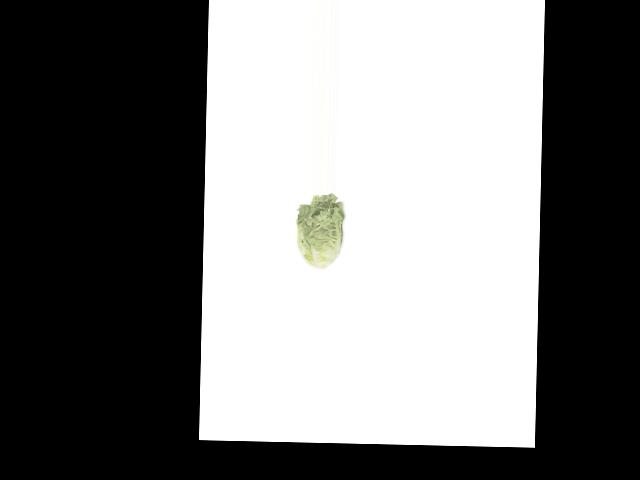lettuce: (290, 194, 348, 270)
